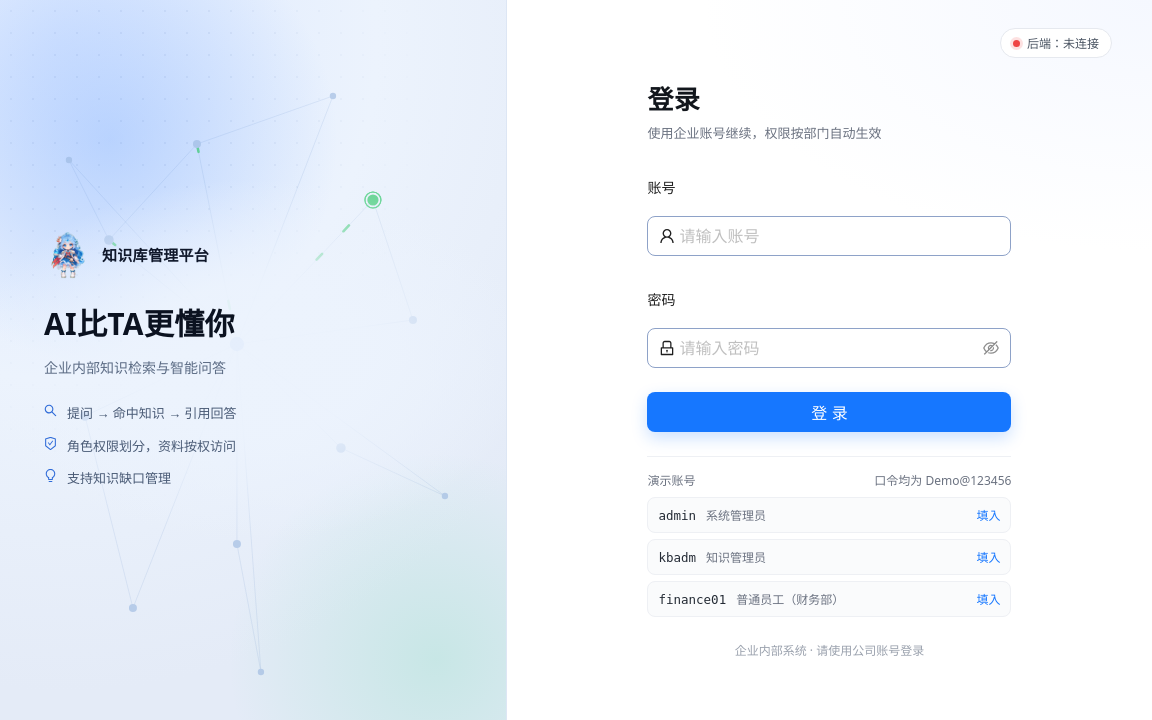
Test: 登录页 › 后端连不上时如实说，并且点一下能重新检测
Click the button "后端：未连接": (1056, 43) [1000, 28, 1112, 58]
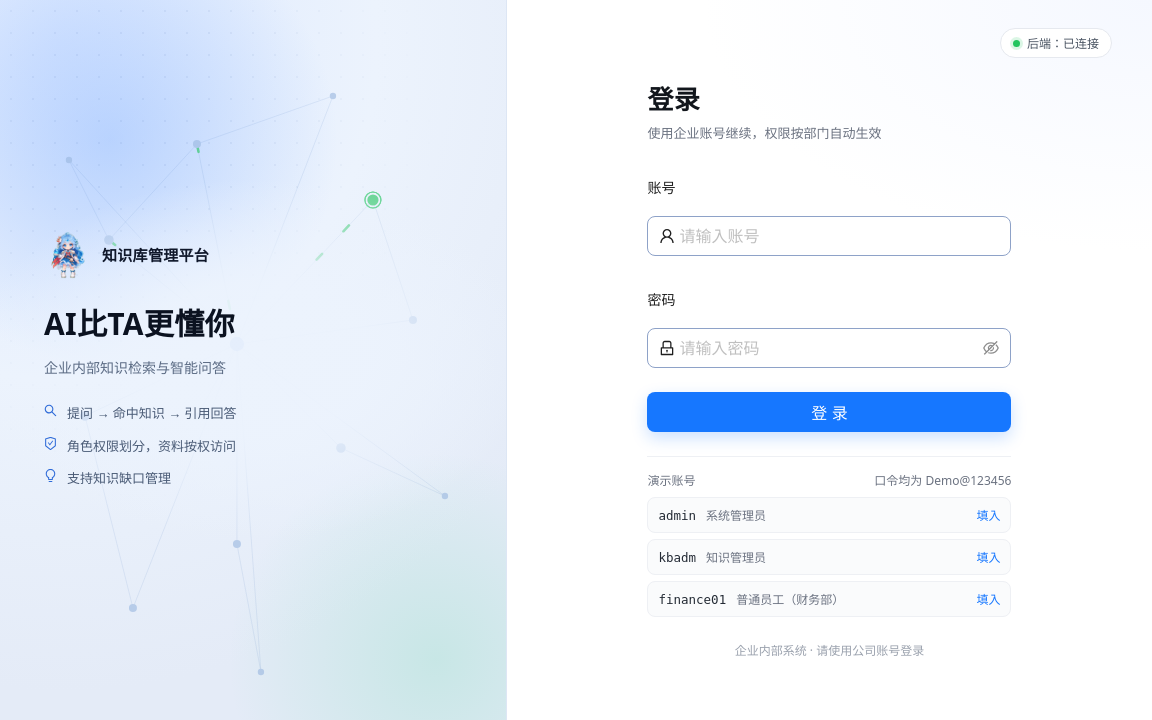
Check: the button "后端：已连接" is shown, box [1000, 28, 1112, 58]
